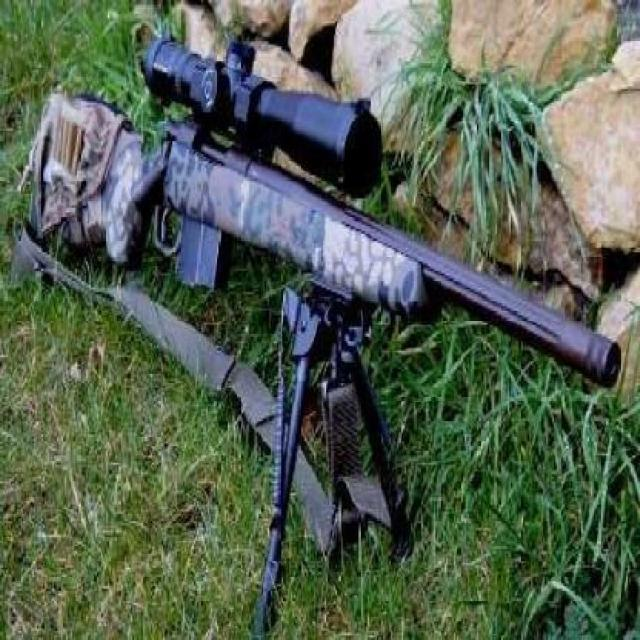weapon: (39, 46, 625, 550)
